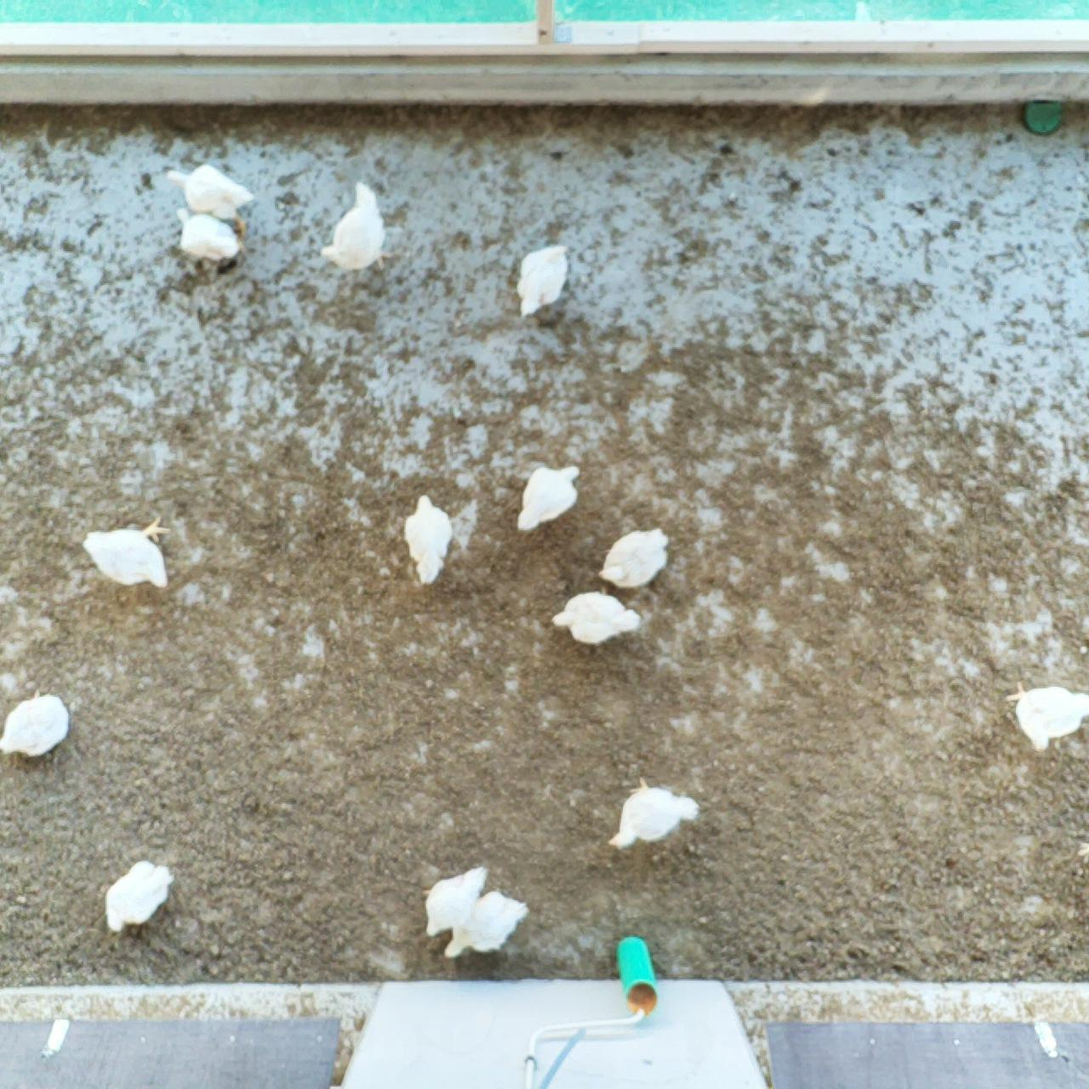chicken: (314, 178, 395, 276), (608, 775, 706, 856), (158, 161, 256, 238), (80, 513, 173, 592), (1000, 676, 1089, 754), (445, 887, 531, 961), (101, 856, 179, 936), (422, 863, 494, 946), (590, 526, 674, 593), (550, 586, 639, 646), (0, 687, 71, 762), (515, 462, 589, 533), (401, 491, 455, 584), (166, 204, 242, 266), (513, 241, 571, 316)
